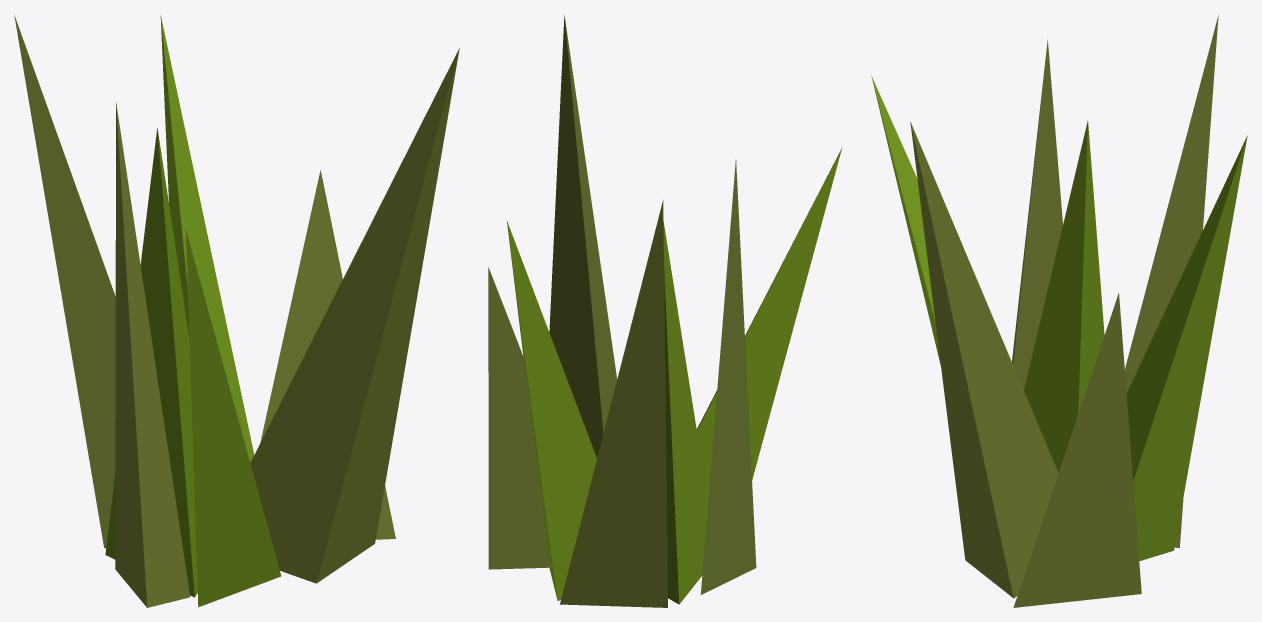
File: grass-1.glb
3 renders of one model, left to right at view 1: azimuth 30°, elevation 25°; view 2: azimuth 150°, elevation 25°; view 3: azimuth 270°, elevation 25°, orthographic. The views are drawn at different scales.
Parts seen in each view (by area): view 1: Grass 1; view 2: Grass 1; view 3: Grass 1.
Part boxes in pixels (x1,y1,x2,y2): Grass 1: [14, 15, 459, 607]; Grass 1: [488, 15, 842, 607]; Grass 1: [871, 15, 1247, 607].
Bounding box in the file's own units: 1.27 × 2.18 × 1.52.
